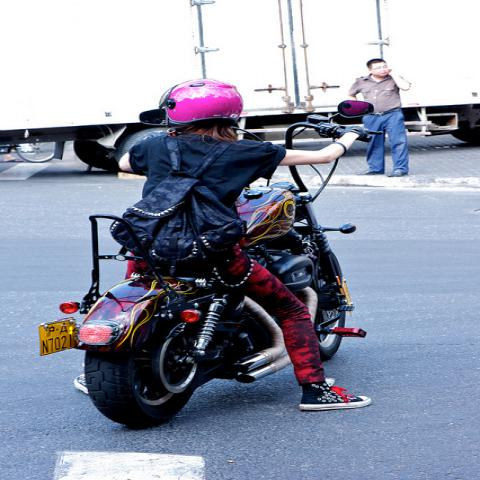motorcycle: (36, 100, 380, 430)
truck: (0, 0, 479, 170)
